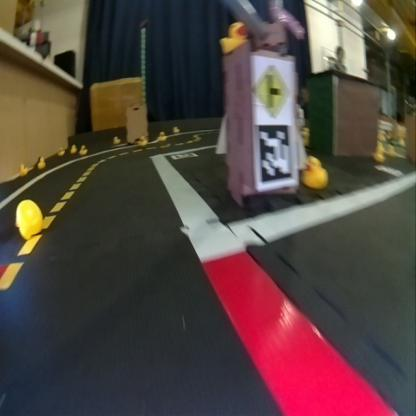Duckie: (16, 199, 40, 237), (303, 157, 327, 187), (221, 23, 246, 50), (373, 146, 384, 161), (37, 156, 46, 167), (78, 145, 86, 154), (138, 136, 146, 145), (158, 132, 166, 140), (112, 135, 119, 144), (20, 164, 26, 174), (57, 147, 64, 155), (70, 144, 76, 152), (173, 126, 179, 132)
Intersection sign: (251, 64, 291, 118)
QR code: (256, 122, 292, 183), (171, 151, 197, 159)
